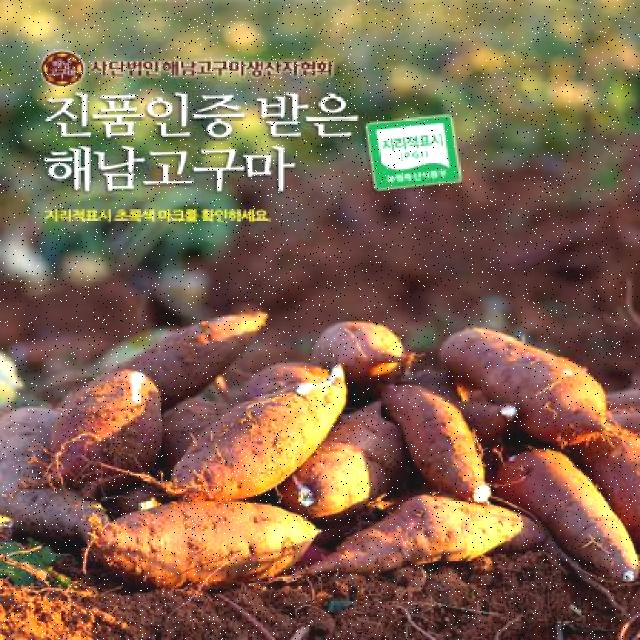Sweet Potato: (170, 360, 348, 503)
